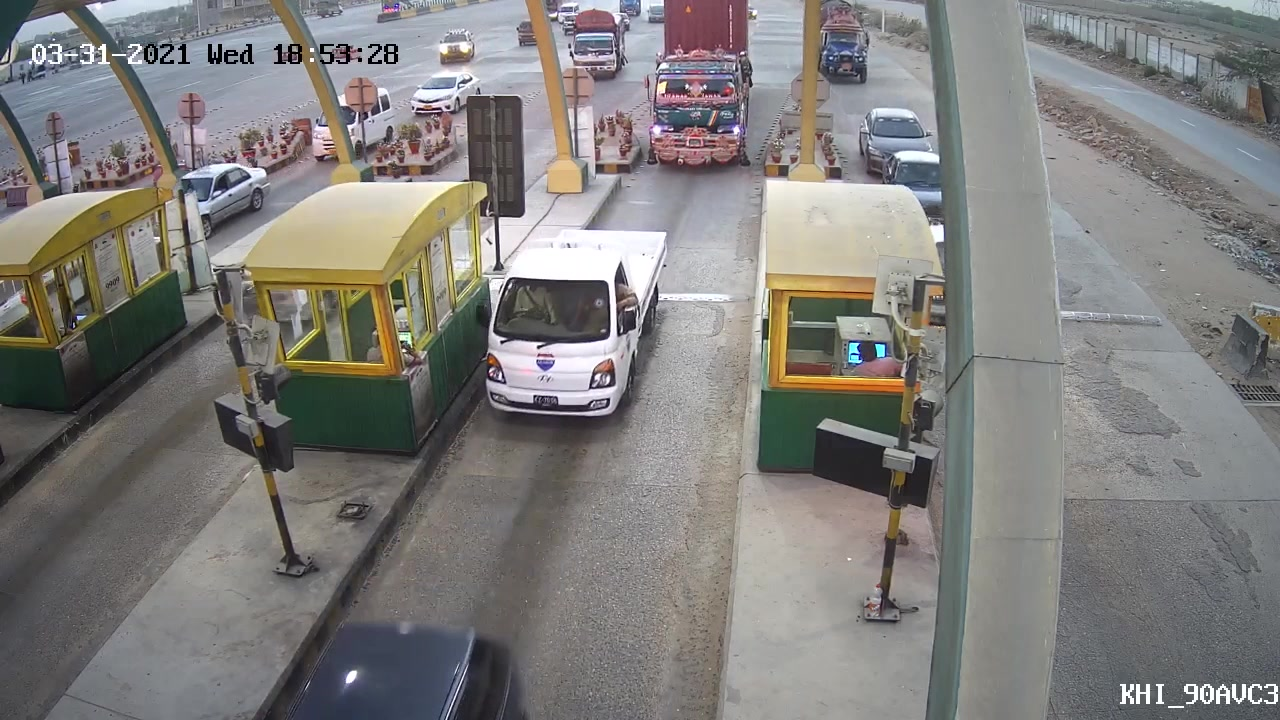F2: (479, 239, 647, 431)
